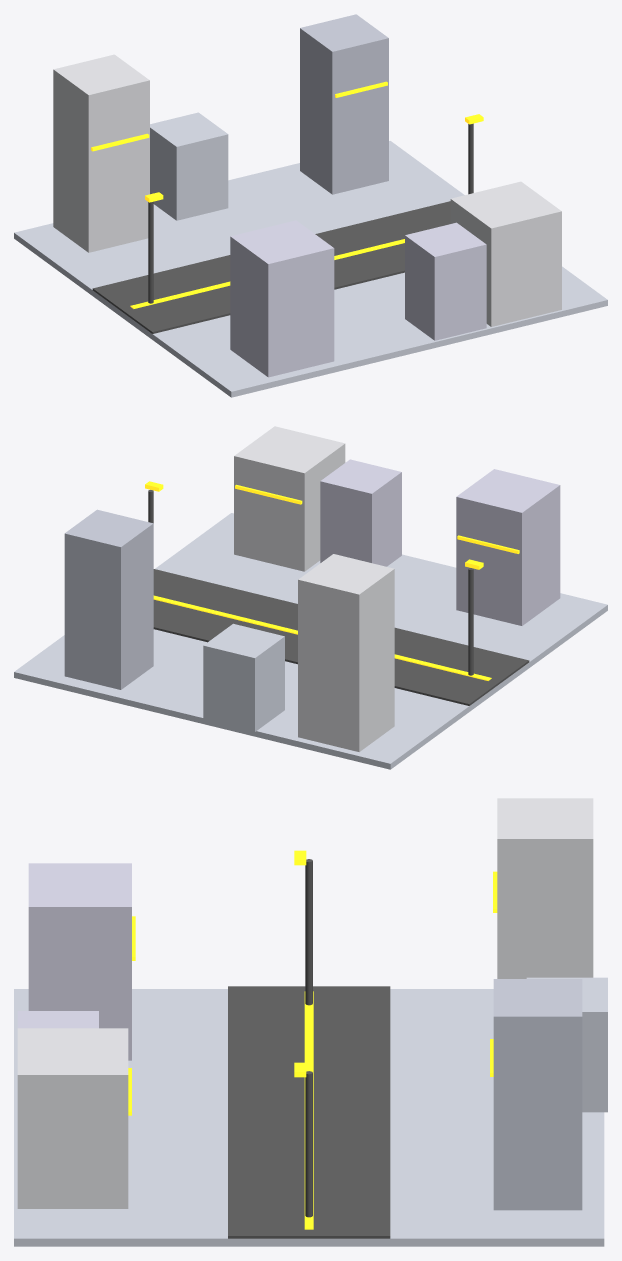
Rendered from city-street.glb.
3 views of the same model, one above another, from view 1: azimuth 30°, elevation 25°; view 2: azimuth 150°, elevation 25°; view 3: azimuth 270°, elevation 25° (orthographic). The views are drawn at different scales.
Bounding box in the file's own units: 7.95 × 3.3 × 8.
